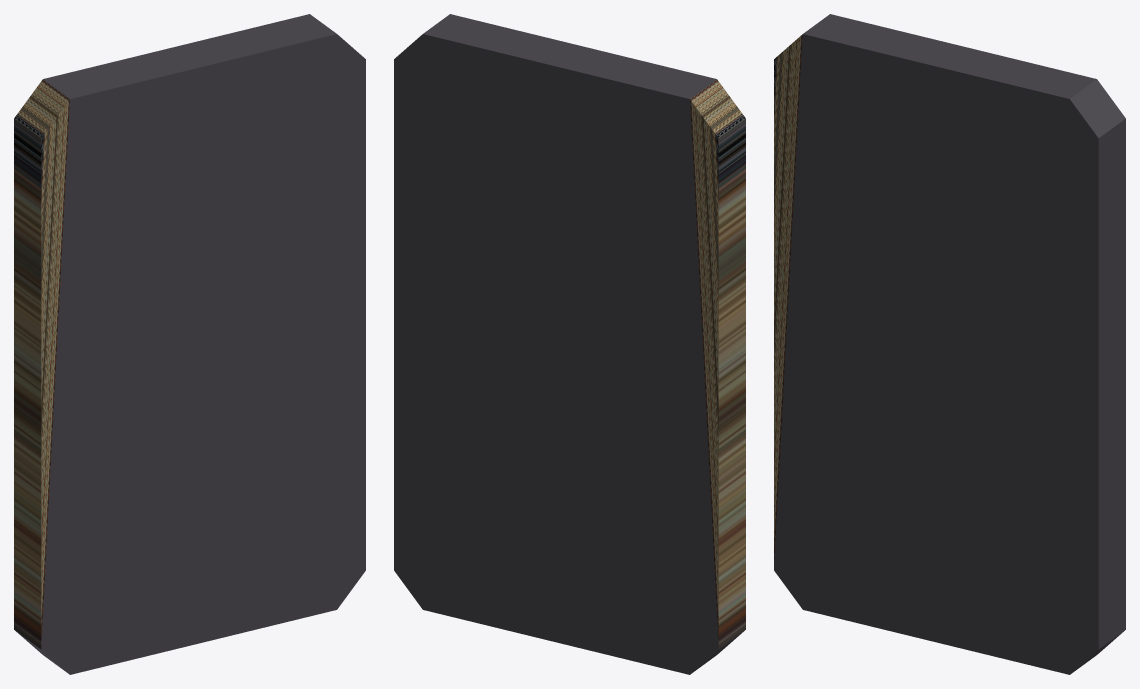
Rendered from SM_BLD_PRESSURE_DOOR.fbx.
3 renders of one model, left to right at view 1: azimuth 30°, elevation 25°; view 2: azimuth 150°, elevation 25°; view 3: azimuth 330°, elevation 25°, orthographic.
Parts seen in each view (by area): view 1: SM_BLD_PRESSURE_DOOR; view 2: SM_BLD_PRESSURE_DOOR; view 3: SM_BLD_PRESSURE_DOOR.
Boxes of the visible parts, bbox=[...] form: SM_BLD_PRESSURE_DOOR: bbox=[14, 14, 365, 674]; SM_BLD_PRESSURE_DOOR: bbox=[394, 14, 745, 674]; SM_BLD_PRESSURE_DOOR: bbox=[774, 14, 1125, 674].
Size of the model in its own units: 1.37 by 2.33 by 0.2.
